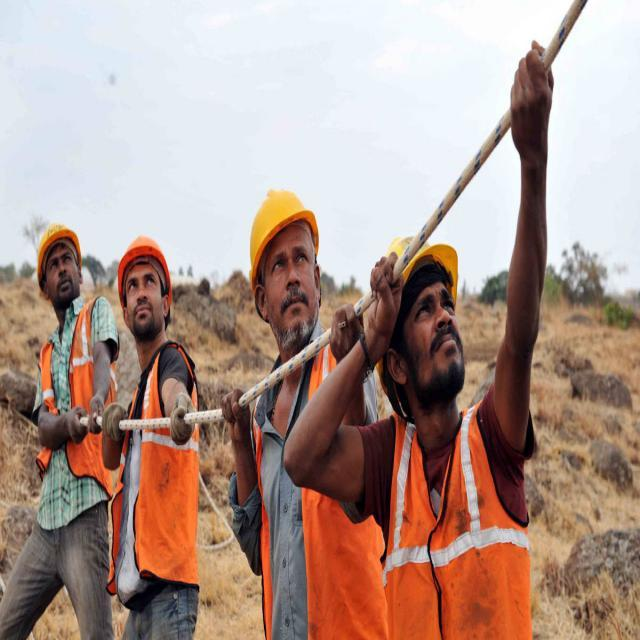reflective_jacket: (358, 390, 534, 639), (250, 323, 370, 639), (118, 338, 201, 590), (34, 296, 121, 487)
safety_helmet: (371, 223, 464, 343), (246, 180, 321, 278), (115, 227, 176, 302), (32, 213, 83, 282)
